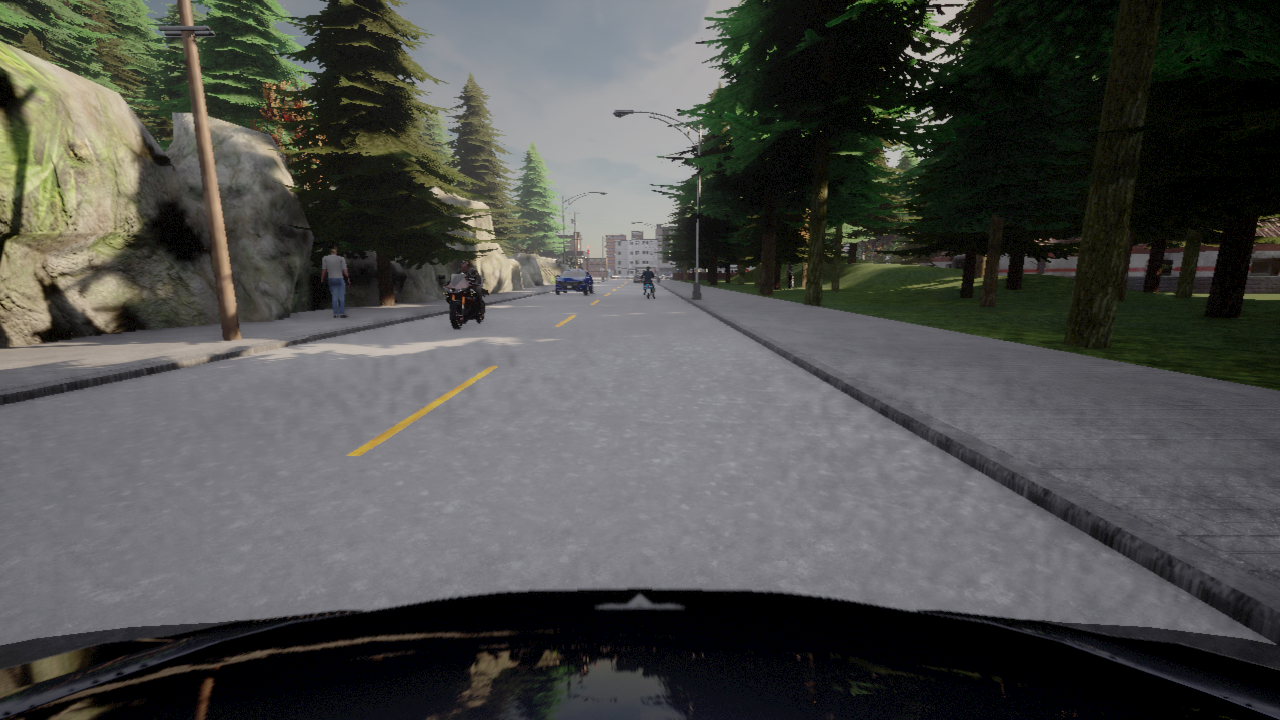cyclist: (0, 588, 1279, 719), (438, 273, 489, 328), (555, 269, 592, 294), (640, 273, 656, 298), (633, 274, 644, 282), (633, 272, 642, 275), (639, 277, 641, 282), (662, 273, 671, 274)
pedestrian: (321, 244, 349, 317)
